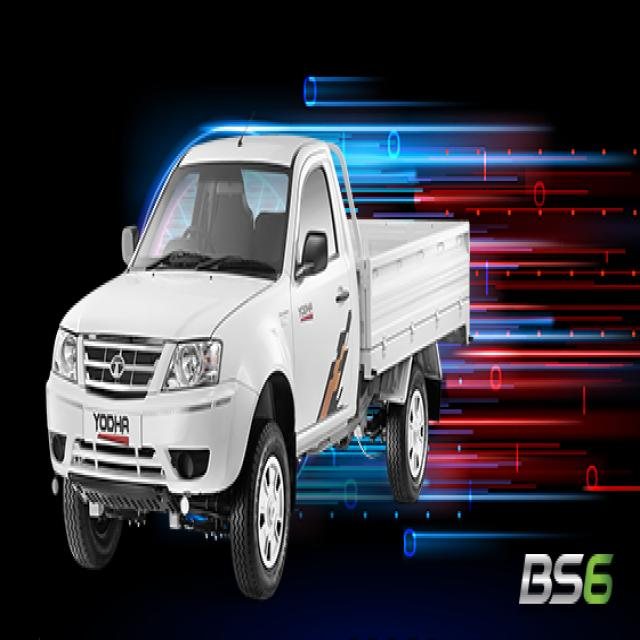light_vehicle: (42, 131, 470, 583)
